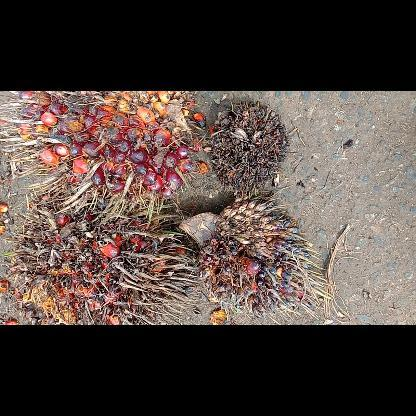TBS abnormal: (177, 199, 331, 321), (207, 99, 291, 199)
TBS masak: (10, 92, 200, 200)
Terlalu masak: (6, 192, 186, 324)
